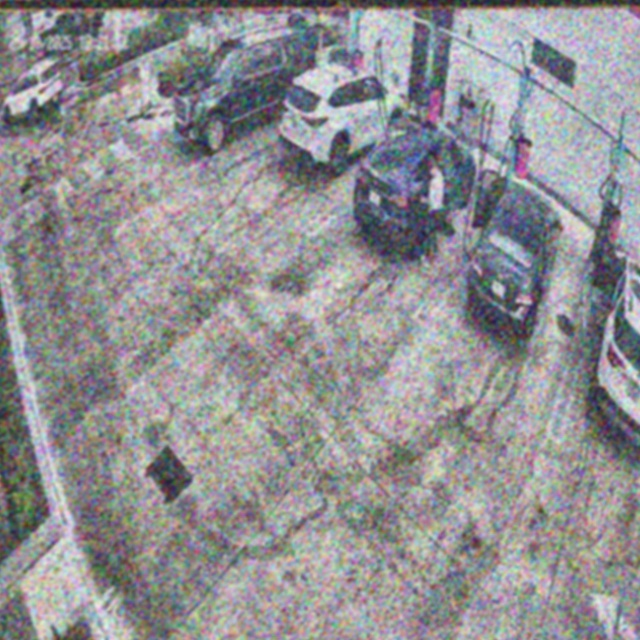Car: (466, 164, 564, 339), (355, 116, 478, 240), (281, 60, 407, 167)
